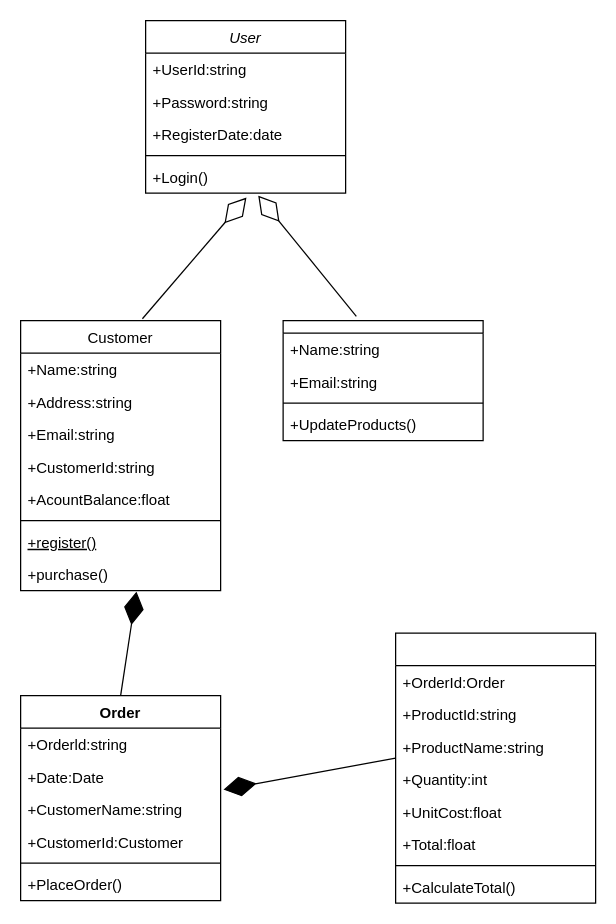
The diagram is 616 pixels wide and 924 high, and some of its shapes have lost their labels. Here are the shapes that lost their labels. From the top down, the box of each, then its label:
(282, 319, 483, 441): Classname
(394, 632, 596, 903): OrderDetails
